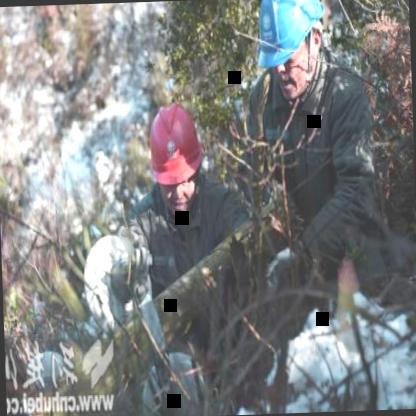helmet: (250, 0, 333, 107), (142, 95, 208, 213)
